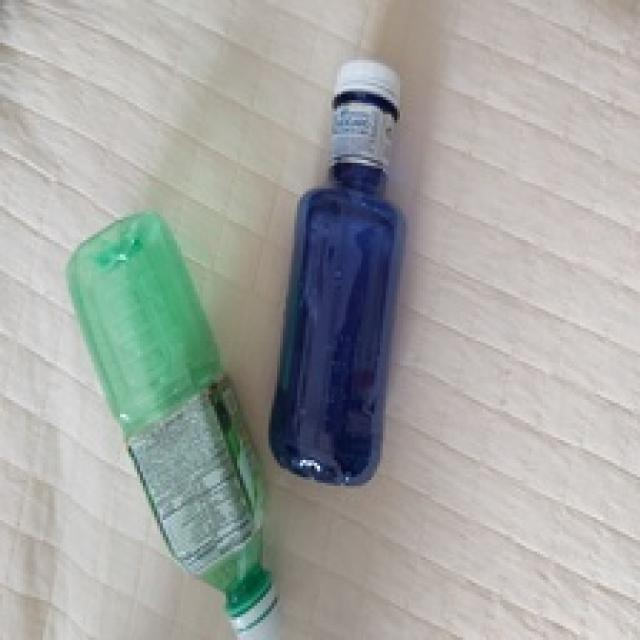Plastic: (69, 213, 286, 640), (266, 57, 406, 484)
